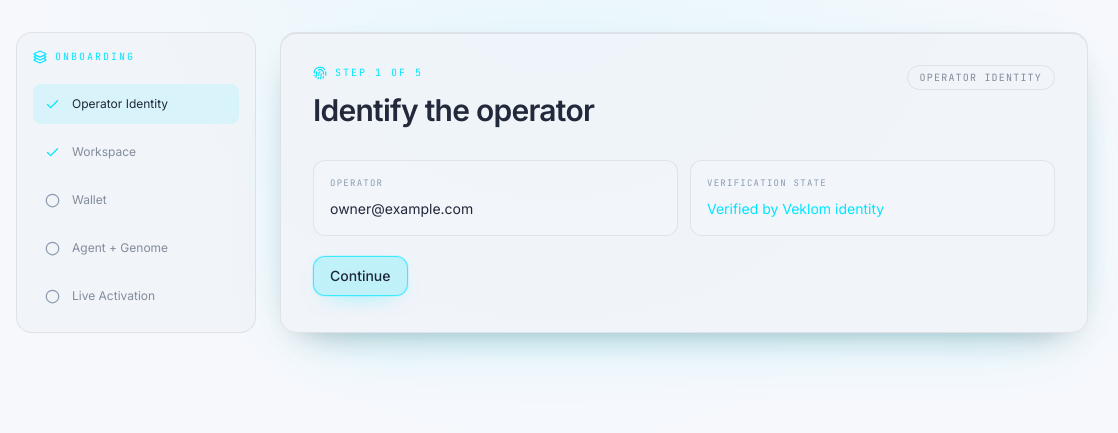
onboarding workspace step › shows the workspace from the session token as bound and lets Continue through
Click the button "Continue": [360, 276] box [313,256,408,296]
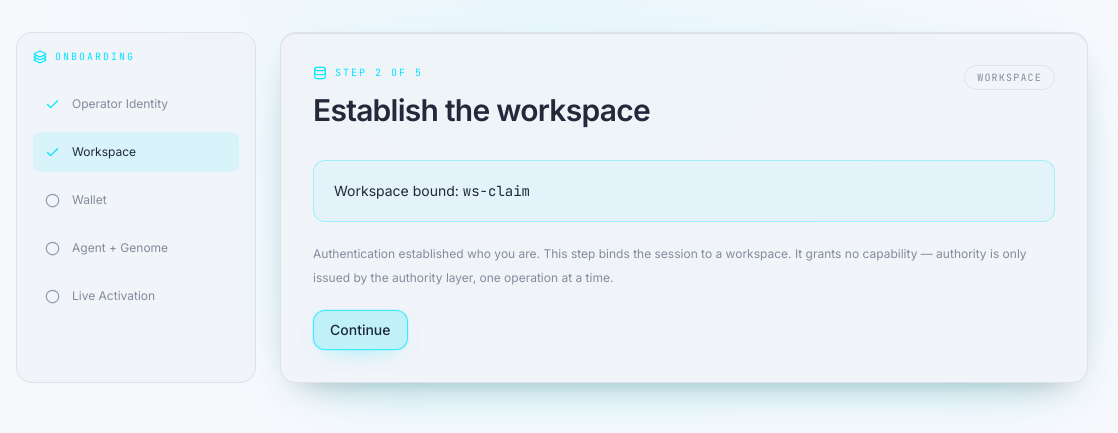
Now the text "Establish the workspace" is shown, box [313,92,650,128]
Now the text "Workspace bound: ws-claim" is shown, box [313,160,1055,222]
Click the button "Continue": [360, 330] box [313,310,408,350]
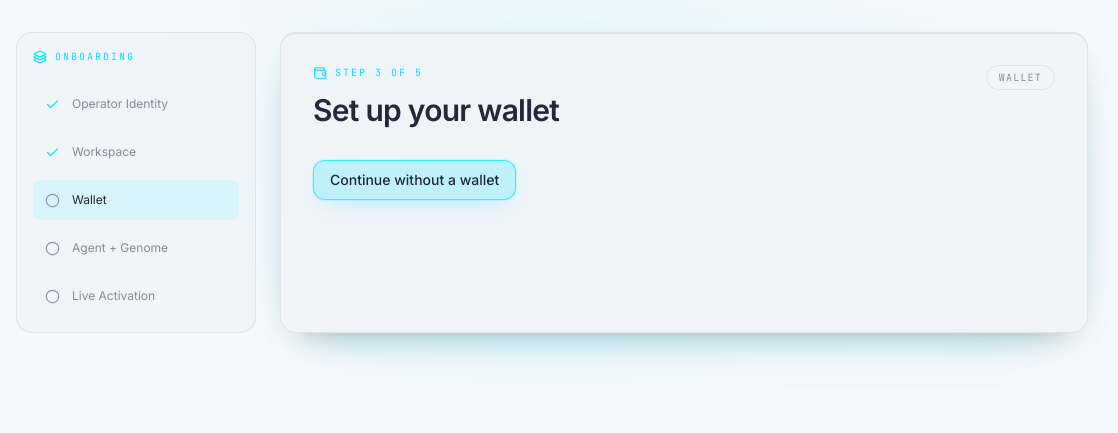
Now the text "Set up your wallet" is shown, box [313,92,559,128]
